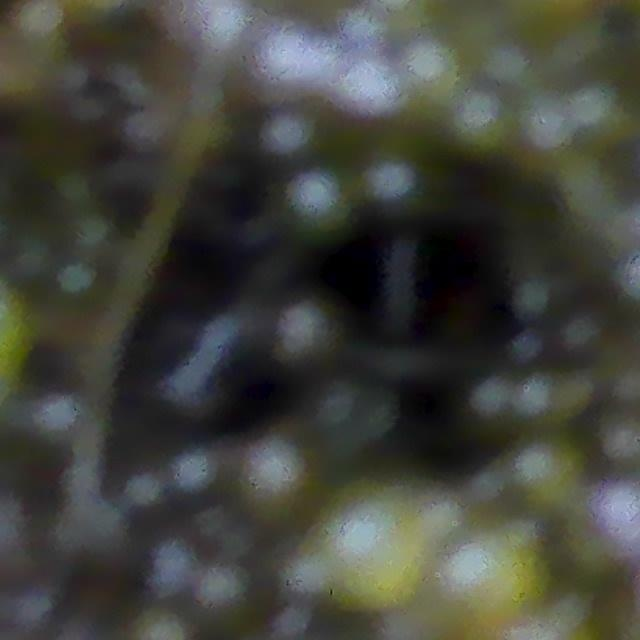SeaGrape: (323, 505, 426, 622), (240, 433, 308, 537), (241, 437, 306, 506), (451, 91, 512, 153), (288, 171, 345, 230), (403, 38, 455, 88)
